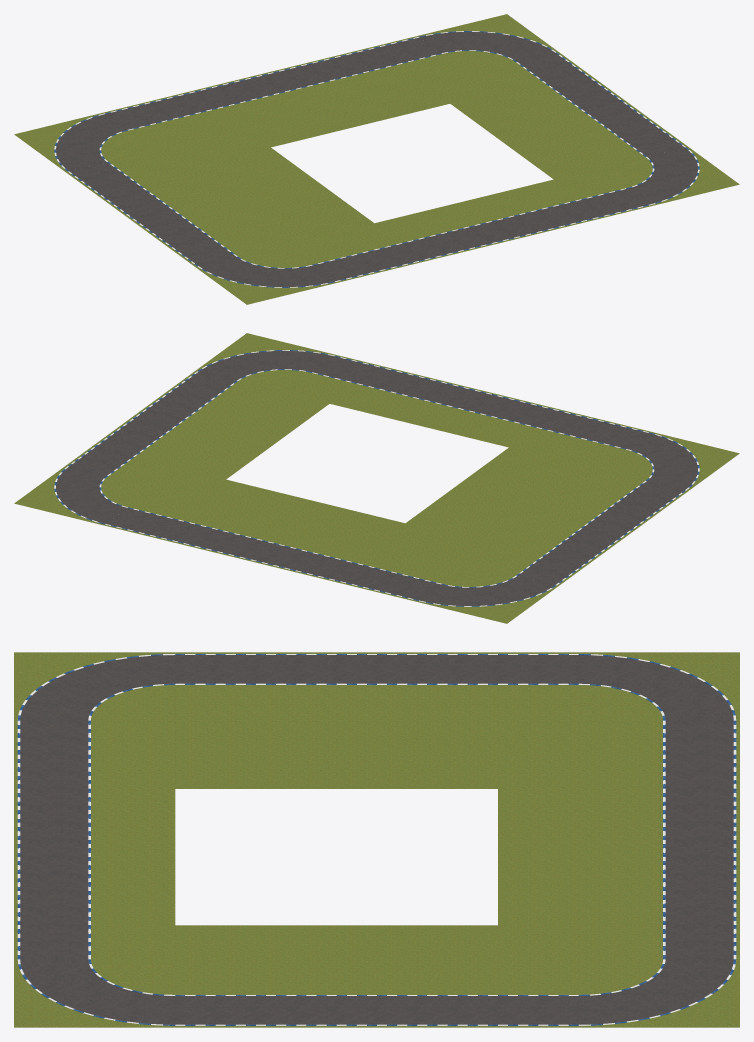
Rendered from track_00.glb.
3 renders of one model, top to bottom at view 1: azimuth 30°, elevation 25°; view 2: azimuth 150°, elevation 25°; view 3: azimuth 270°, elevation 25°, orthographic. The views are drawn at different scales.
Parts seen in each view (by area): view 1: Forest_mod03_turn90_big.014, Forest_mod03_turn90_big.015, Forest_mod03_turn90_big.016, Forest_mod03_turn90_big.017, Forest_mod00_empty.116, Forest_mod00_empty.130, Forest_mod01_straight.069, Forest_mod00_empty.093, Forest_mod00_empty.094, Forest_mod00_empty.101, Forest_mod00_empty.102, Forest_mod00_empty.106 (+59 smaller); view 2: Forest_mod03_turn90_big.016, Forest_mod03_turn90_big.017, Forest_mod03_turn90_big.014, Forest_mod03_turn90_big.015, Forest_mod00_empty.106, Forest_mod00_empty.122, Forest_mod01_straight.062, Forest_mod00_empty.098, Forest_mod00_empty.099, Forest_mod00_empty.104, Forest_mod00_empty.105, Forest_mod00_empty.108 (+59 smaller); view 3: Forest_mod03_turn90_big.014, Forest_mod03_turn90_big.015, Forest_mod03_turn90_big.016, Forest_mod03_turn90_big.017, Forest_mod01_straight.075, Forest_mod01_straight.079, Forest_mod00_empty.085, Forest_mod00_empty.087, Forest_mod00_empty.095, Forest_mod00_empty.098, Forest_mod00_empty.102, Forest_mod00_empty.103 (+59 smaller).
Boxes of the visible parts, x1=… form: Forest_mod03_turn90_big.014: x1=418, y1=14, x2=558, y2=73; Forest_mod03_turn90_big.015: x1=195, y1=245, x2=335, y2=304; Forest_mod03_turn90_big.016: x1=599, y1=147, x2=739, y2=206; Forest_mod03_turn90_big.017: x1=14, y1=112, x2=154, y2=171; Forest_mod00_empty.116: x1=181, y1=158, x2=251, y2=188; Forest_mod00_empty.130: x1=502, y1=130, x2=572, y2=160; Forest_mod01_straight.069: x1=238, y1=69, x2=308, y2=98; Forest_mod00_empty.093: x1=424, y1=74, x2=494, y2=103; Forest_mod00_empty.094: x1=469, y1=63, x2=539, y2=92; Forest_mod00_empty.101: x1=464, y1=190, x2=534, y2=220; Forest_mod00_empty.102: x1=509, y1=179, x2=579, y2=209; Forest_mod00_empty.106: x1=450, y1=93, x2=520, y2=122; Forest_mod03_turn90_big.016: x1=195, y1=333, x2=335, y2=392; Forest_mod03_turn90_big.017: x1=418, y1=564, x2=558, y2=623; Forest_mod03_turn90_big.014: x1=14, y1=466, x2=154, y2=525; Forest_mod03_turn90_big.015: x1=599, y1=431, x2=739, y2=490; Forest_mod00_empty.106: x1=181, y1=449, x2=251, y2=479; Forest_mod00_empty.122: x1=502, y1=477, x2=572, y2=507; Forest_mod01_straight.062: x1=445, y1=388, x2=515, y2=417; Forest_mod00_empty.098: x1=509, y1=428, x2=579, y2=458; Forest_mod00_empty.099: x1=464, y1=417, x2=534, y2=447; Forest_mod00_empty.104: x1=259, y1=393, x2=329, y2=422; Forest_mod00_empty.105: x1=214, y1=382, x2=284, y2=411; Forest_mod00_empty.108: x1=219, y1=509, x2=289, y2=539; Forest_mod03_turn90_big.014: x1=578, y1=959, x2=739, y2=1027; Forest_mod03_turn90_big.015: x1=14, y1=652, x2=175, y2=720; Forest_mod03_turn90_big.016: x1=14, y1=959, x2=175, y2=1027; Forest_mod03_turn90_big.017: x1=578, y1=652, x2=739, y2=720; Forest_mod01_straight.075: x1=336, y1=652, x2=417, y2=686; Forest_mod01_straight.079: x1=336, y1=993, x2=417, y2=1027; Forest_mod00_empty.085: x1=578, y1=720, x2=659, y2=754; Forest_mod00_empty.087: x1=578, y1=925, x2=659, y2=959; Forest_mod00_empty.095: x1=94, y1=720, x2=175, y2=754; Forest_mod00_empty.098: x1=94, y1=754, x2=175, y2=788; Forest_mod00_empty.102: x1=94, y1=891, x2=175, y2=925; Forest_mod00_empty.103: x1=94, y1=925, x2=175, y2=959.
Size of the model in its own units: 176 by 0.03 by 144.
Materials: 3 (3 with a texture image).
